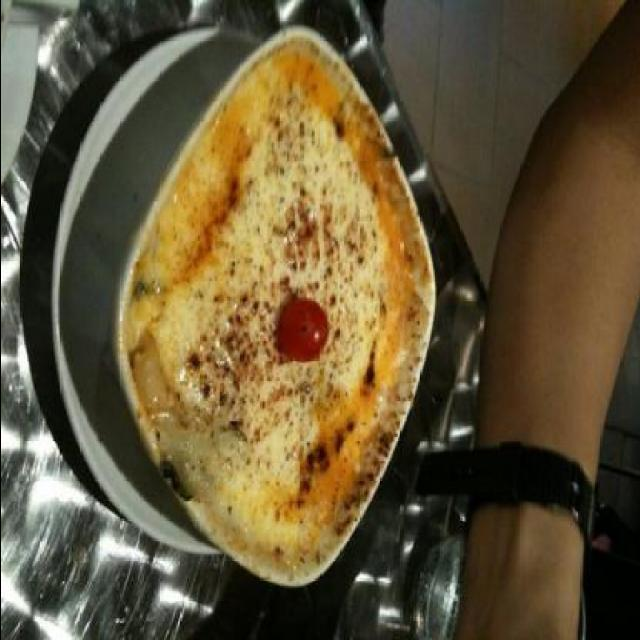Lasagna: (100, 64, 412, 598)
